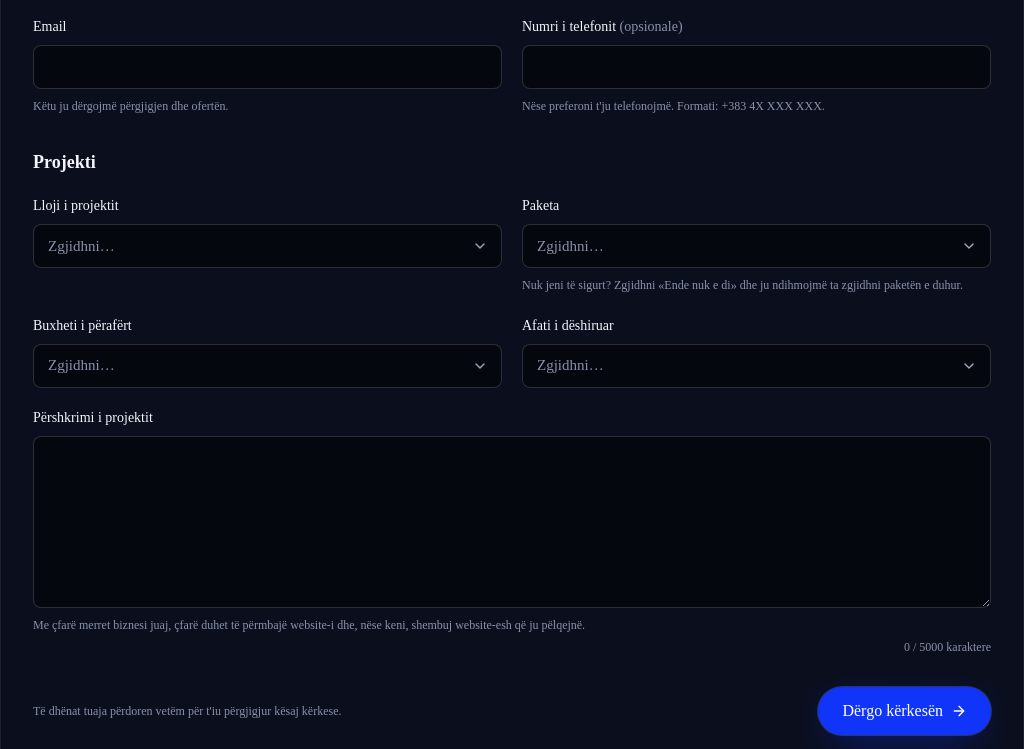
Test case: QuoteForm › shows an error summary and inline errors, and does not submit invalid data
(page scrolled)
Click the button "Dërgo kërkesën": point(905, 711) [818, 687, 991, 735]
(page scrolled)
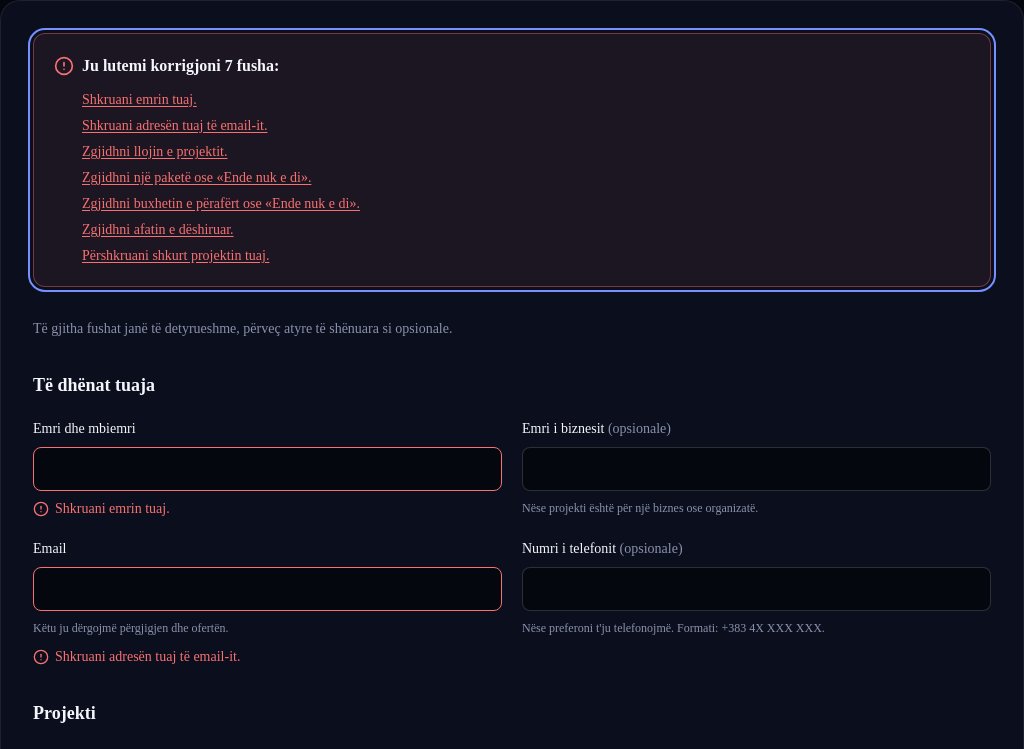
Check: the text "Ju lutemi korrigjoni 7 fusha:" is shown, box [54, 56, 279, 76]
Errors update live once the visitor starts correcting.
In the field labelled "Emri dhe mbiemri": point(268, 469) [33, 447, 502, 491], type "Arta"
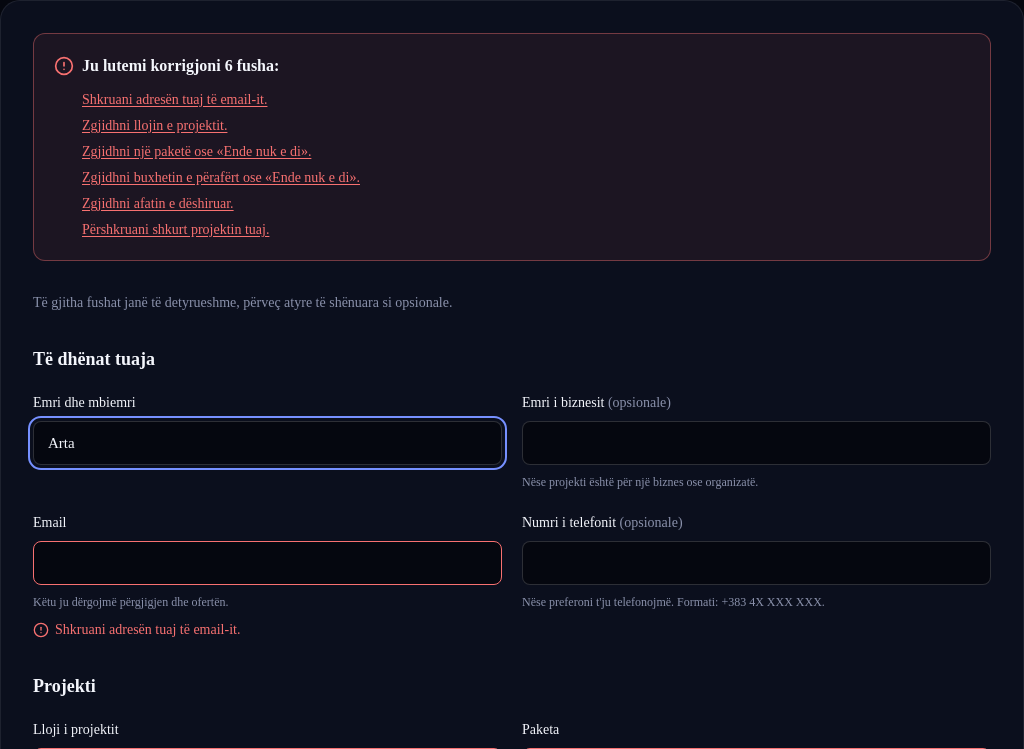
Check: the text "Ju lutemi korrigjoni 6 fusha:" is shown, box [54, 56, 279, 76]
